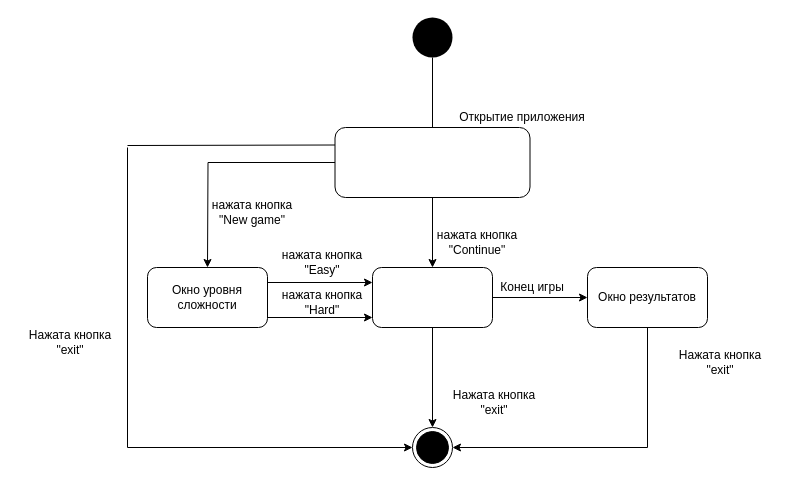
Some shapes in this 790 by 485 pixel diagram are drawn without their labels. Here are the shapes that lost their labels. From the top down, the centre of each, then its label:
the point at 432,162: Главное меню
the point at 432,297: Окно игры
